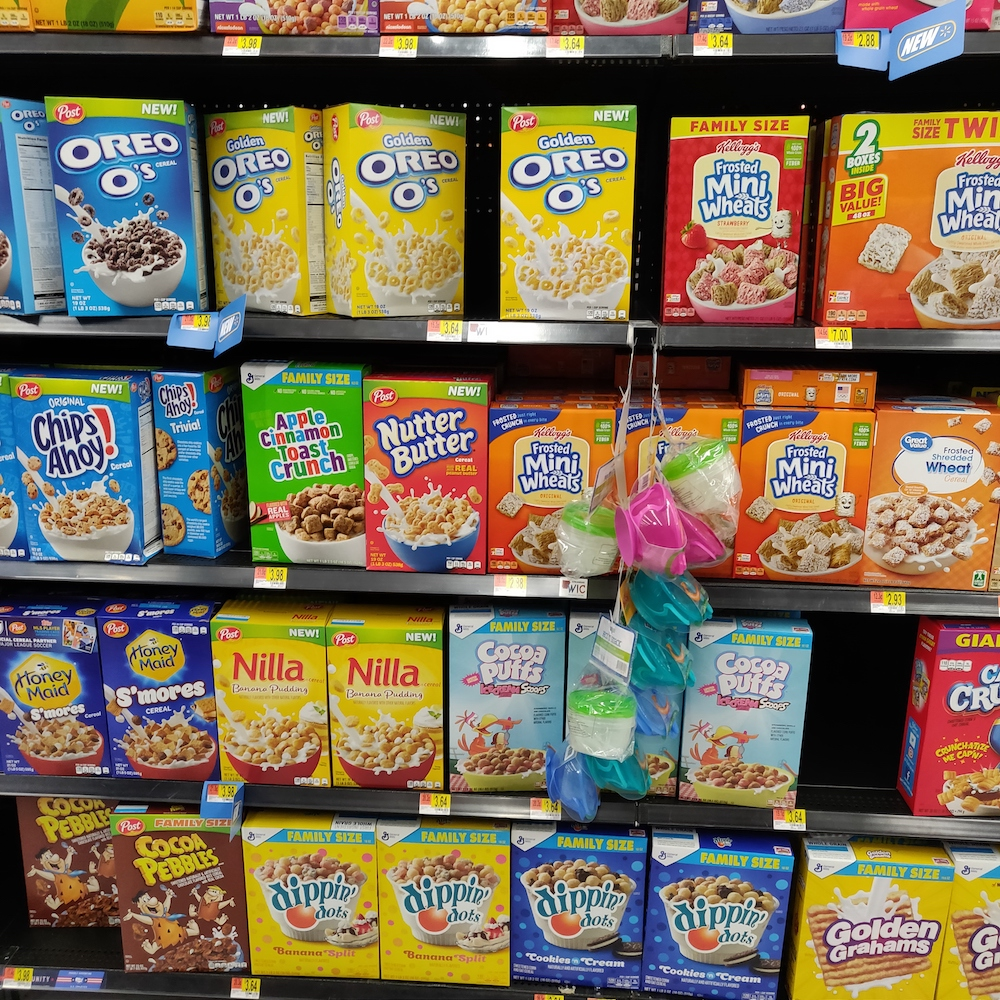Chips Ahoys-565717529: (13, 378, 151, 560)
Cocoa Pebbles-555517893: (679, 630, 810, 822), (106, 819, 251, 973), (444, 622, 572, 791)
Dippin Dots Banana-568929376: (381, 820, 513, 981), (242, 830, 382, 977)
Dippin Dots Cookies & Cream -568929378: (655, 837, 798, 987), (518, 838, 647, 997)
Honey Maid Graham -563424385: (1, 608, 104, 766)
Nilla -568301014: (212, 625, 339, 787), (321, 622, 444, 785)
Nutter Butter-565717511: (364, 375, 495, 565)
Oreo Golden-568301011: (492, 108, 632, 311), (336, 117, 473, 314), (211, 124, 326, 309)
Oreo-563424384: (48, 100, 211, 319)
